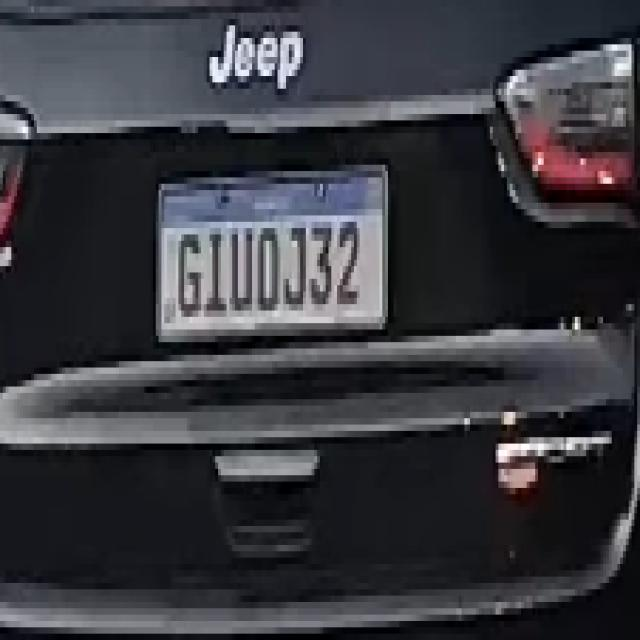Placa_mercosul_carro: (153, 164, 388, 344)
